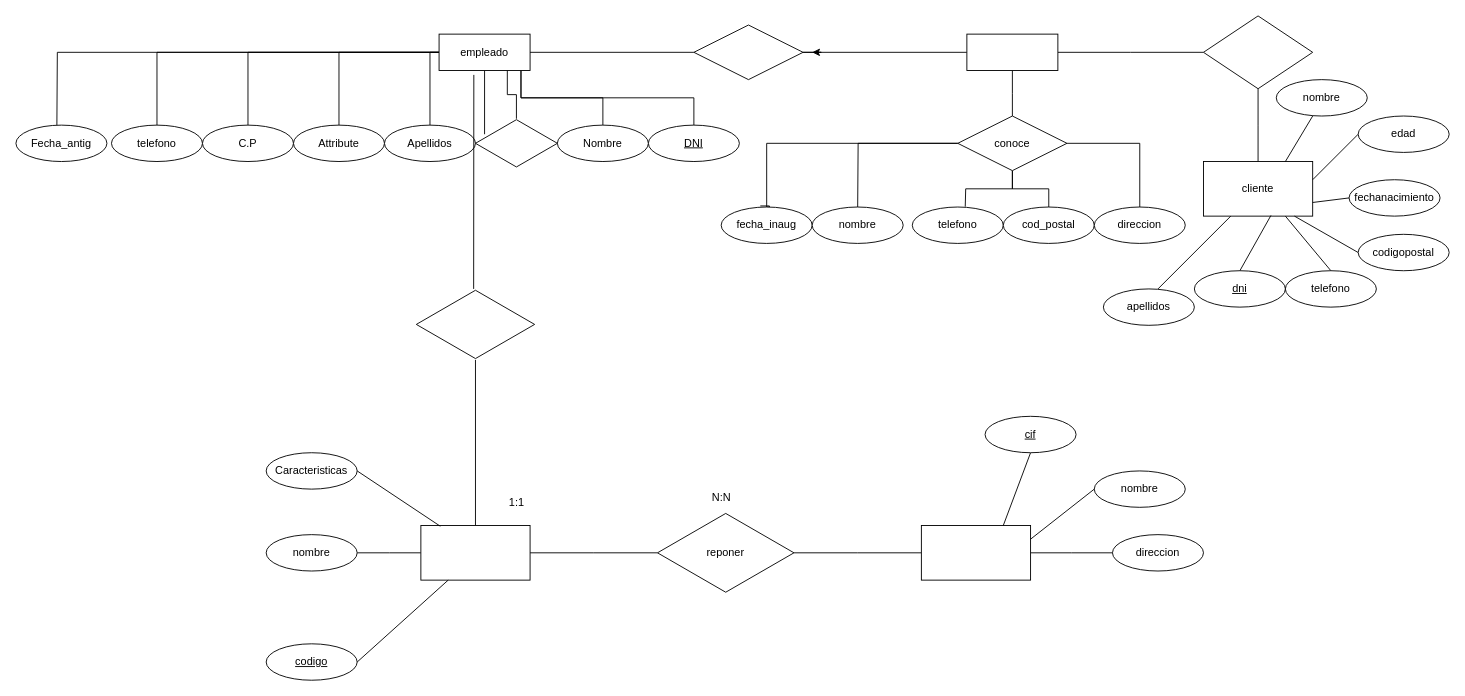
This 1465x696 diagram has some shape labels left out. The centre of each missing label's shape, as x and y in pixels:
comprar: the point at 1258,52
Contrato: the point at 748,52
dirige: the point at 516,143
proveedores: the point at 975,552
seccion: the point at 475,552
Supermercado: the point at 1012,52
trabajar: the point at 475,324
